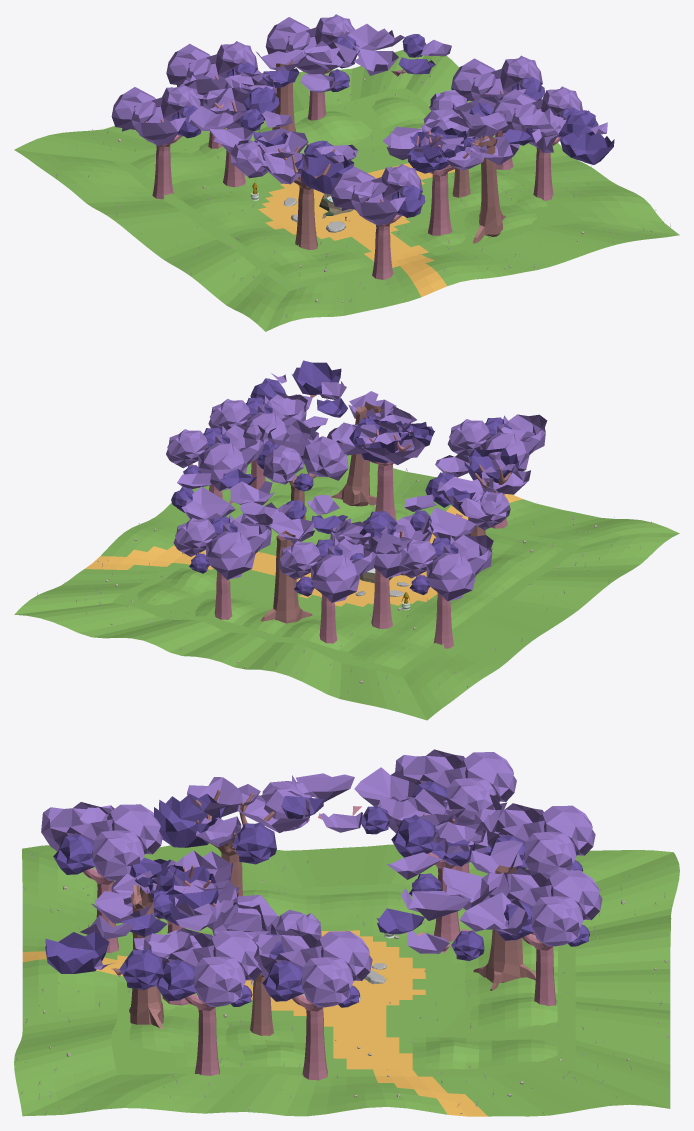
Rendered from 211206_dawn_spring2.0.fbx.
3 renders of one model, top to bottom at view 1: azimuth 30°, elevation 25°; view 2: azimuth 150°, elevation 25°; view 3: azimuth 270°, elevation 25°, orthographic. The views are drawn at different scales.
Parts seen in each view (by area): view 1: Plane, Vert.016, Icosphere.052, Vert.003, Icosphere.072, Vert.002, Icosphere.013, Icosphere.055, Icosphere.039, Icosphere.060, Icosphere.045, Icosphere.075 (+45 smaller); view 2: Plane, Icosphere.055, Icosphere.065, Icosphere.060, Vert.006, Vert.016, Icosphere.030, Icosphere.045, Icosphere.043, Icosphere.063, Icosphere.027, Icosphere.058 (+39 smaller); view 3: Plane, Icosphere.013, Icosphere.063, Icosphere.043, Icosphere.068, Icosphere.039, Icosphere.073, Vert.006, Icosphere.072, Icosphere.042, Icosphere.052, Icosphere.058 (+58 smaller).
Boxes of the visible parts, x1=… form: Plane: x1=14, y1=49, x2=679, y2=331; Vert.016: x1=472, y1=135, x2=505, y2=243; Icosphere.052: x1=131, y1=97, x2=186, y2=145; Vert.003: x1=415, y1=129, x2=469, y2=235; Icosphere.072: x1=351, y1=176, x2=405, y2=225; Vert.002: x1=278, y1=146, x2=335, y2=249; Icosphere.013: x1=294, y1=151, x2=354, y2=194; Icosphere.055: x1=111, y1=87, x2=156, y2=131; Icosphere.039: x1=560, y1=132, x2=614, y2=164; Icosphere.060: x1=166, y1=43, x2=211, y2=86; Icosphere.045: x1=451, y1=58, x2=495, y2=101; Icosphere.075: x1=331, y1=166, x2=375, y2=210; Plane: x1=14, y1=455, x2=679, y2=720; Icosphere.055: x1=426, y1=552, x2=475, y2=601; Icosphere.065: x1=206, y1=531, x2=255, y2=579; Icosphere.060: x1=310, y1=554, x2=360, y2=602; Vert.006: x1=260, y1=530, x2=312, y2=623; Vert.016: x1=331, y1=401, x2=384, y2=506; Icosphere.030: x1=303, y1=436, x2=348, y2=480; Icosphere.045: x1=198, y1=442, x2=247, y2=491; Icosphere.043: x1=166, y1=429, x2=208, y2=468; Icosphere.063: x1=173, y1=518, x2=216, y2=556; Icosphere.027: x1=263, y1=445, x2=303, y2=484; Icosphere.058: x1=278, y1=540, x2=321, y2=579; Plane: x1=14, y1=843, x2=679, y2=1116; Icosphere.013: x1=154, y1=794, x2=224, y2=847; Icosphere.063: x1=530, y1=896, x2=583, y2=946; Icosphere.043: x1=300, y1=957, x2=353, y2=1007; Icosphere.068: x1=193, y1=956, x2=245, y2=1006; Icosphere.039: x1=45, y1=931, x2=109, y2=973; Icosphere.073: x1=91, y1=830, x2=144, y2=880; Vert.006: x1=473, y1=865, x2=535, y2=990; Icosphere.072: x1=41, y1=802, x2=112, y2=851; Icosphere.042: x1=252, y1=928, x2=321, y2=977; Icosphere.052: x1=395, y1=749, x2=465, y2=790; Icosphere.058: x1=523, y1=831, x2=576, y2=876.
Bounding box in the file's own units: 43381 × 11090 × 45984.
